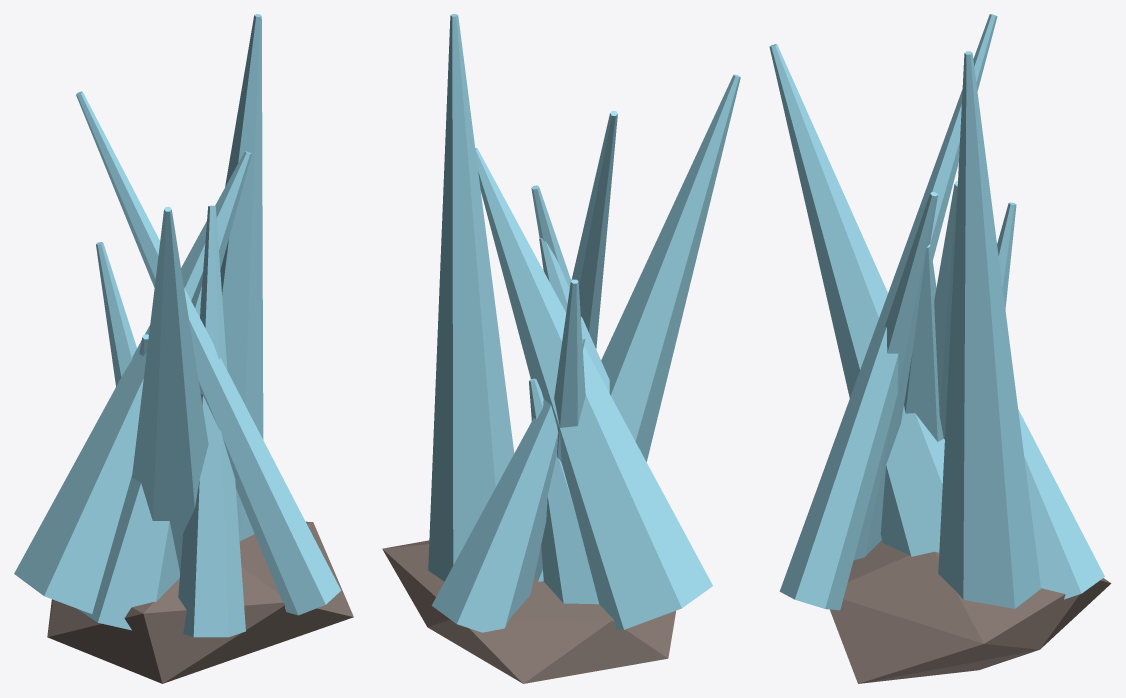
Rendered from CrystalCluster.fbx.
3 views of the same model, side by side, from view 1: azimuth 30°, elevation 25°; view 2: azimuth 150°, elevation 25°; view 3: azimuth 270°, elevation 25° (orthographic). The views are drawn at different scales.
Visible parts, largest first — view 1: Glow, RockDark; view 2: Glow, RockDark; view 3: Glow, RockDark.
Part boxes in pixels (x1=…): Glow: x1=14, y1=14, x2=340, y2=637; RockDark: x1=47, y1=521, x2=353, y2=683; Glow: x1=428, y1=14, x2=740, y2=632; RockDark: x1=382, y1=540, x2=675, y2=683; Glow: x1=769, y1=14, x2=1104, y2=610; RockDark: x1=829, y1=540, x2=1111, y2=683.
Bounding box in the file's own units: 4.45 × 8.95 × 4.22.
